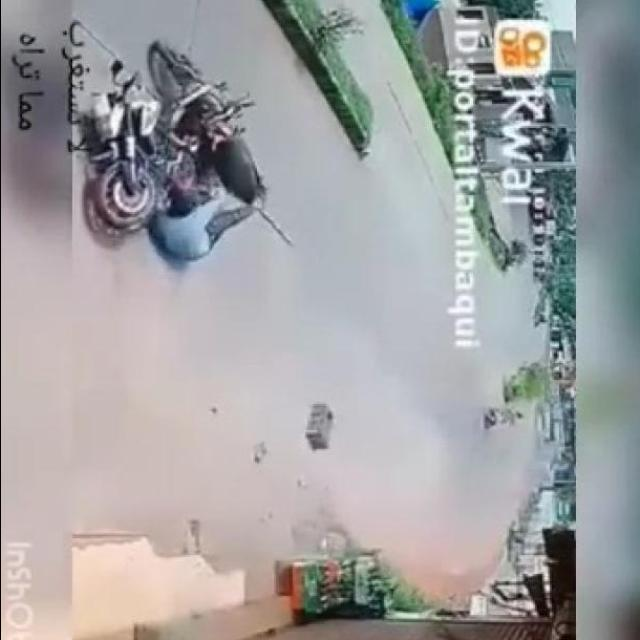accident: (80, 48, 284, 263)
